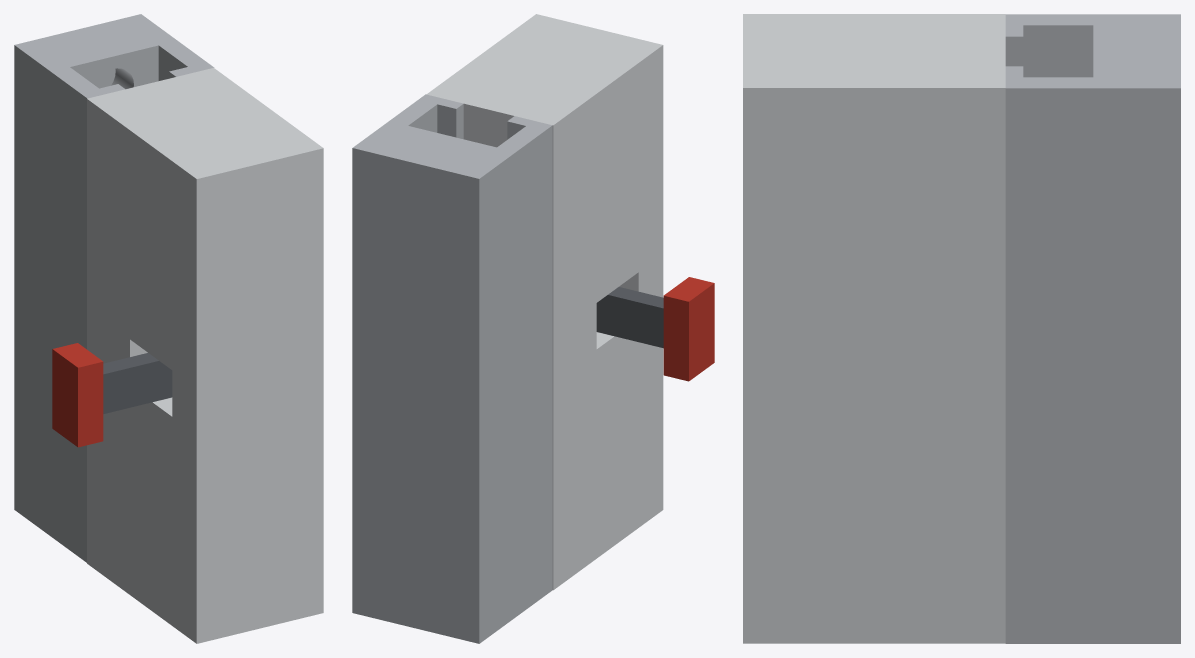
The model's file is b_detail_suitcase.glb.
3 renders of one model, left to right at view 1: azimuth 30°, elevation 25°; view 2: azimuth 150°, elevation 25°; view 3: azimuth 270°, elevation 25°, orthographic. The views are drawn at different scales.
Parts seen in each view (by area): view 1: panel_rail, ring_upright, pin_tab, panel_spring_pin; view 2: ring_upright, panel_rail, pin_tab, panel_spring_pin; view 3: panel_rail, ring_upright.
Boxes of the visible parts, bbox=[...] form: panel_rail: bbox=[87, 68, 323, 643]; ring_upright: bbox=[14, 14, 214, 562]; pin_tab: bbox=[52, 343, 103, 447]; panel_spring_pin: bbox=[103, 353, 172, 413]; ring_upright: bbox=[352, 94, 552, 643]; panel_rail: bbox=[426, 14, 663, 590]; pin_tab: bbox=[663, 277, 714, 381]; panel_spring_pin: bbox=[596, 287, 663, 348]; panel_rail: bbox=[743, 14, 1005, 643]; ring_upright: bbox=[1005, 14, 1180, 643].
Bounding box in the file's own units: 0.0335 × 0.07 × 0.05.
